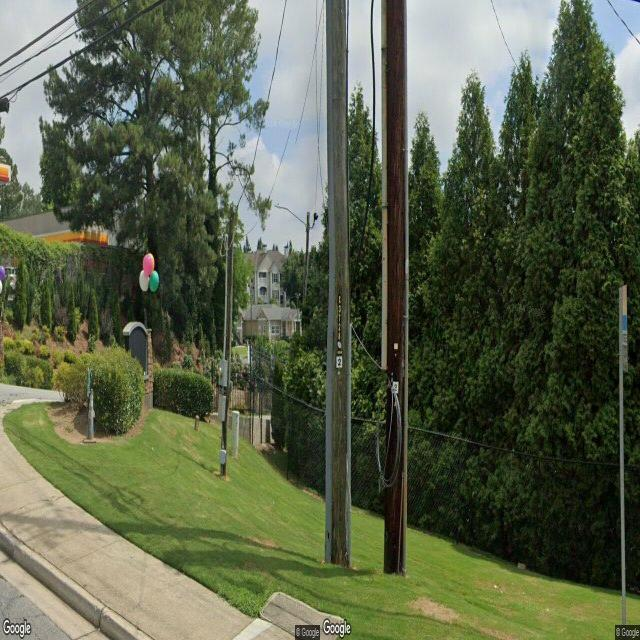seating: (614, 623, 640, 640)
